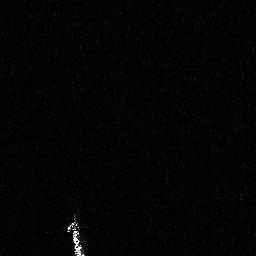ship: (65, 212, 86, 256)
